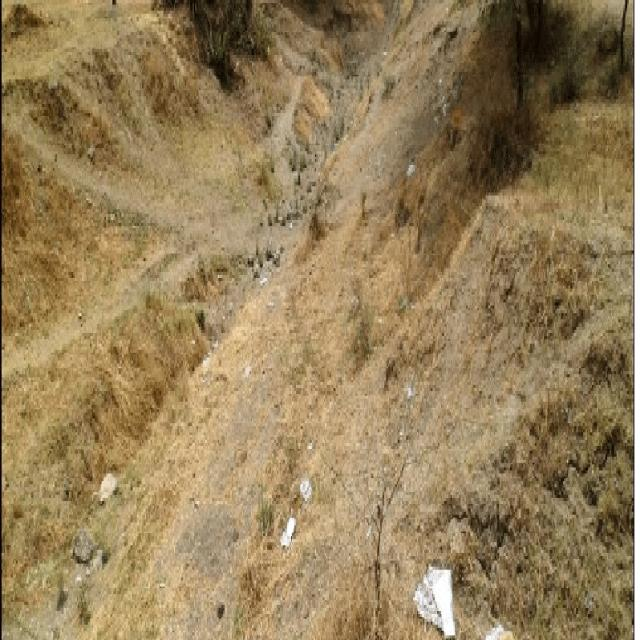Alluvial Soil: (50, 120, 552, 512)
